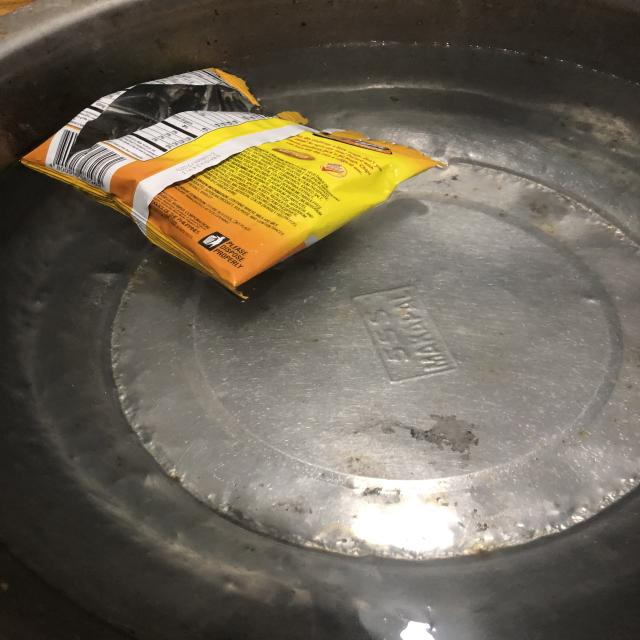Plastic Wrapper: (22, 69, 444, 299)
